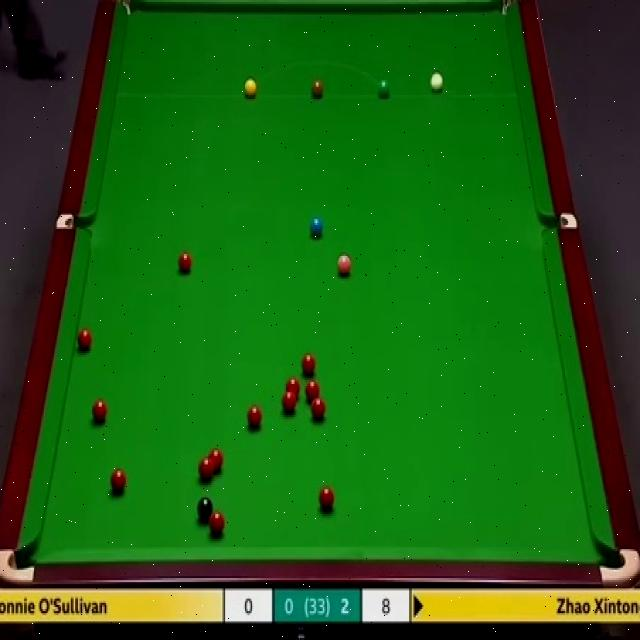black-ball: (197, 496, 215, 520)
blue-ball: (310, 214, 324, 240)
brown-ball: (310, 78, 324, 98)
green-ball: (376, 79, 390, 98)
pink-ball: (337, 256, 352, 278)
red-ball: (317, 482, 336, 514), (106, 467, 126, 494), (245, 402, 263, 431), (75, 328, 95, 354), (89, 396, 107, 423), (285, 374, 302, 400), (198, 456, 216, 480), (280, 391, 298, 414), (300, 353, 318, 375), (210, 511, 224, 538), (210, 449, 226, 472), (308, 383, 323, 406), (312, 397, 326, 418), (178, 254, 192, 272)
white-ball: (430, 72, 443, 95)
yellow-ball: (244, 78, 258, 98)
